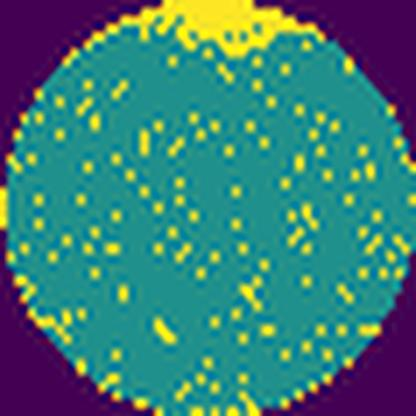Edge-Loc: (132, 0, 320, 61)
